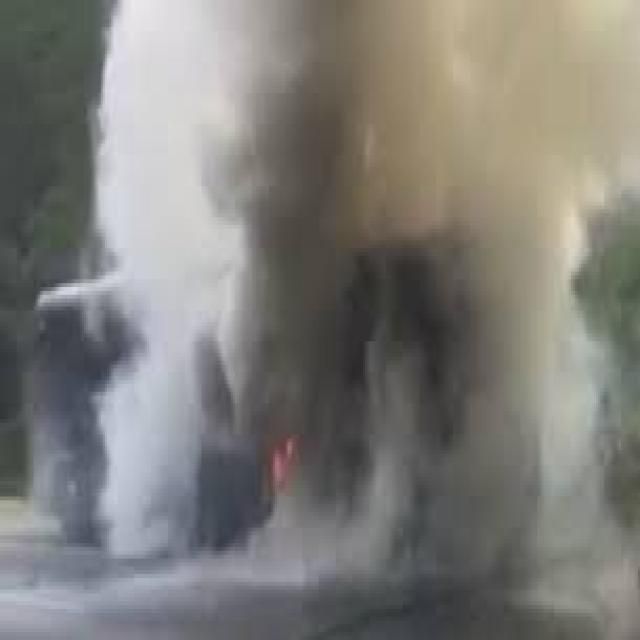Fire: (242, 417, 315, 525)
Smoke: (65, 0, 640, 640)
